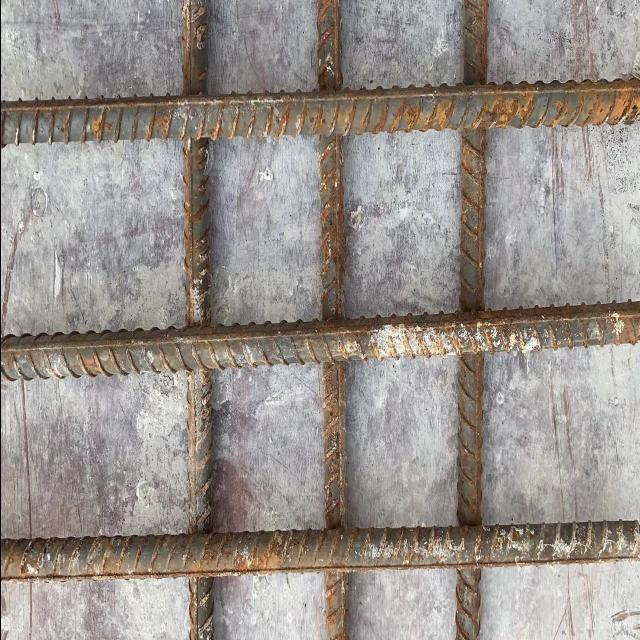ribbed bar: (1, 295, 640, 388), (1, 74, 640, 145), (1, 515, 640, 584), (454, 0, 488, 639), (315, 0, 349, 639), (181, 0, 215, 639)
